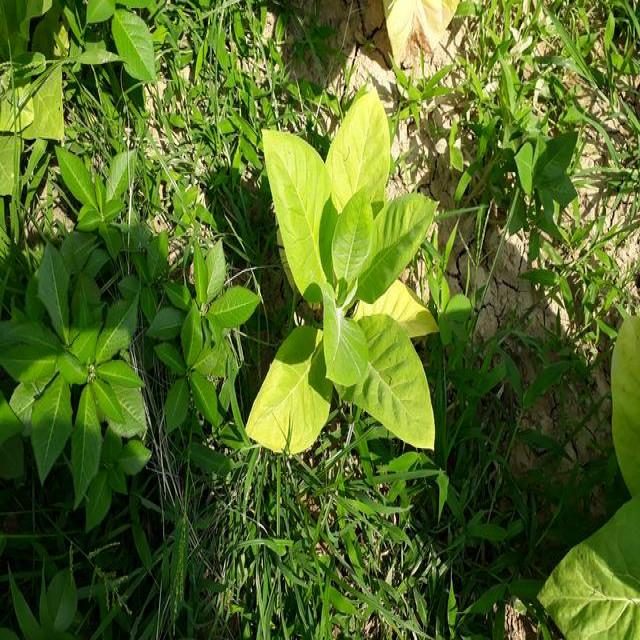crop: (245, 93, 450, 473)
